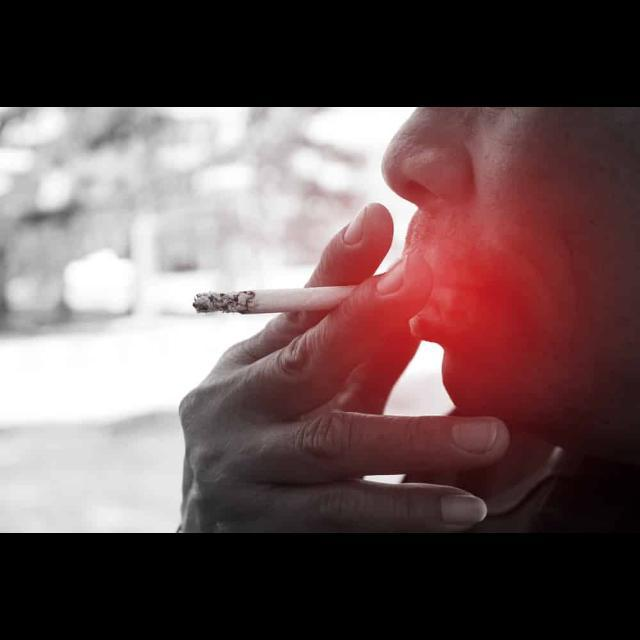rokok: (184, 276, 360, 328)
